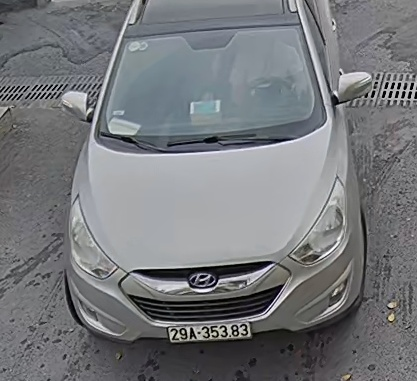vehicle plate: (164, 321, 252, 348)
